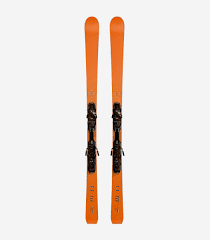skis: (82, 15, 127, 226)
